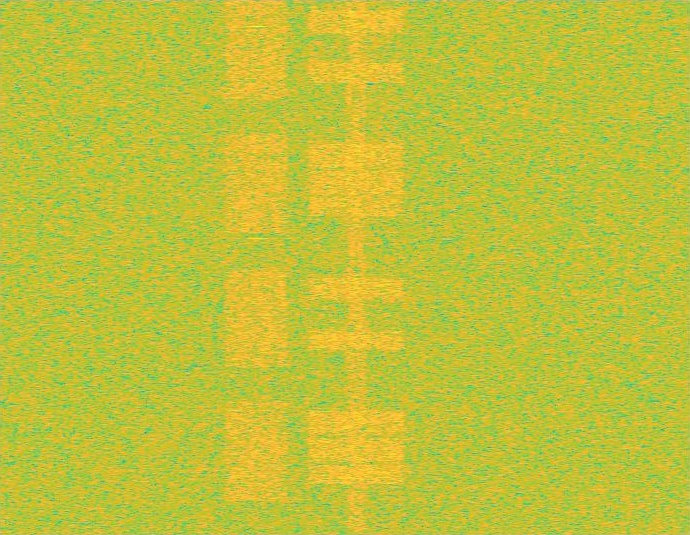5G: (222, 0, 291, 534)
DSSS: (345, 0, 368, 534)
LTE: (305, 0, 408, 534)
Radar: (250, 0, 263, 534)
